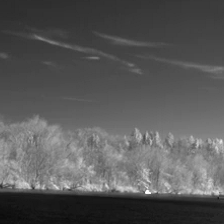Target: (144, 189, 152, 195)
